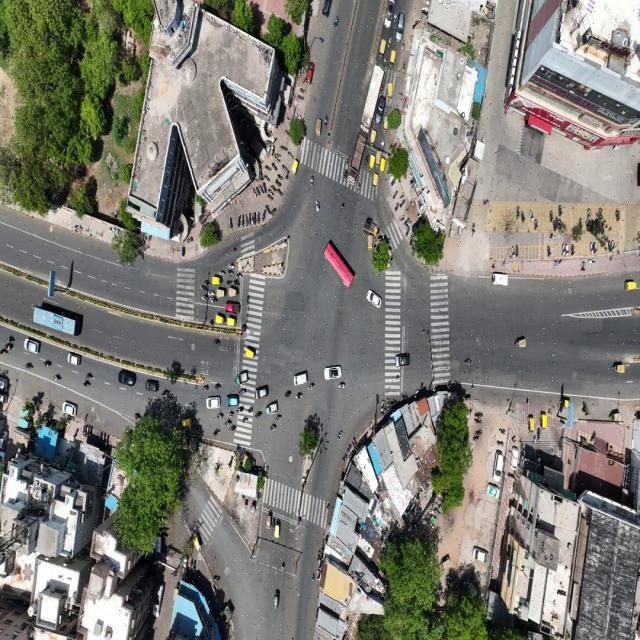3W: (185, 532, 207, 555), (622, 276, 639, 295), (612, 359, 626, 378), (271, 583, 280, 612), (233, 370, 250, 384), (291, 156, 300, 181), (241, 347, 257, 361), (362, 215, 373, 235), (516, 334, 528, 352), (264, 507, 272, 533), (314, 114, 322, 140), (378, 38, 386, 62), (214, 311, 227, 325), (540, 412, 549, 432), (382, 115, 390, 137), (387, 81, 395, 102), (379, 158, 388, 176), (389, 48, 396, 71), (528, 415, 536, 435), (265, 402, 278, 414), (372, 172, 381, 189), (369, 152, 376, 173), (226, 315, 238, 327), (368, 231, 373, 258), (275, 518, 281, 540), (212, 275, 223, 287), (375, 150, 381, 172), (227, 288, 240, 298), (370, 130, 377, 148), (216, 288, 228, 298)
Bus: (30, 302, 89, 339), (322, 240, 355, 294)
Cars: (115, 359, 139, 391), (490, 269, 512, 290), (492, 451, 506, 483), (363, 288, 382, 310), (374, 94, 387, 125), (302, 59, 318, 84), (391, 350, 411, 370), (382, 0, 395, 30), (21, 338, 41, 355), (322, 365, 344, 380), (144, 375, 160, 394), (62, 400, 78, 417), (254, 383, 270, 400), (290, 371, 310, 384), (397, 12, 405, 44), (224, 299, 241, 314), (66, 352, 82, 367), (206, 397, 222, 410), (224, 395, 239, 407)
M2W: (607, 236, 617, 255), (336, 425, 345, 443), (482, 194, 491, 210), (314, 199, 322, 216), (614, 208, 622, 225), (24, 359, 34, 372), (282, 388, 292, 401), (464, 356, 474, 369), (200, 381, 209, 395), (398, 188, 407, 202), (334, 13, 342, 28), (473, 407, 485, 417), (597, 205, 605, 220), (309, 172, 316, 189), (364, 151, 371, 167), (281, 128, 292, 138), (213, 379, 222, 391), (215, 409, 224, 421), (268, 422, 277, 434), (308, 381, 317, 393), (498, 424, 507, 436), (577, 212, 583, 230), (287, 149, 295, 162), (403, 227, 411, 240), (340, 167, 348, 180), (310, 569, 316, 586), (228, 216, 234, 233), (510, 242, 516, 259), (546, 242, 552, 259), (548, 208, 554, 225), (81, 380, 91, 390), (6, 333, 16, 343), (336, 380, 346, 390), (496, 438, 506, 448), (295, 390, 303, 402), (323, 113, 329, 129), (470, 222, 476, 238), (520, 209, 526, 225), (384, 104, 392, 116), (516, 202, 521, 221), (586, 207, 593, 220), (43, 358, 52, 368), (53, 374, 63, 383), (6, 343, 16, 352), (239, 386, 248, 396), (211, 428, 220, 438), (255, 409, 264, 419), (279, 142, 288, 152), (295, 94, 304, 104), (473, 417, 483, 426), (565, 240, 570, 258), (338, 202, 346, 213), (529, 207, 534, 224), (0, 345, 7, 357), (251, 186, 257, 200), (261, 208, 267, 222), (392, 187, 399, 199), (400, 41, 407, 53), (381, 56, 388, 68), (211, 338, 220, 347), (227, 408, 236, 417), (199, 283, 208, 292), (271, 514, 275, 534), (86, 370, 94, 380), (230, 424, 238, 434), (253, 211, 258, 227), (273, 156, 281, 166), (298, 84, 306, 94), (536, 425, 541, 441), (571, 242, 576, 258), (594, 240, 599, 256), (262, 182, 268, 195), (556, 204, 562, 217), (356, 181, 362, 194), (271, 183, 278, 194), (381, 138, 386, 153), (247, 406, 255, 415), (237, 406, 246, 414), (227, 269, 236, 277), (264, 164, 273, 172), (515, 240, 519, 258), (345, 151, 351, 163), (380, 81, 386, 93), (242, 415, 249, 425), (217, 269, 227, 276), (277, 172, 284, 182), (281, 163, 288, 173), (399, 214, 406, 224), (224, 419, 232, 427), (200, 294, 208, 302), (233, 279, 241, 287), (228, 261, 236, 269), (257, 181, 261, 197), (204, 278, 211, 287), (273, 151, 282, 158), (209, 316, 214, 328), (237, 214, 241, 229), (535, 213, 538, 232), (275, 414, 282, 422), (231, 246, 238, 254), (210, 297, 217, 305), (225, 278, 232, 286), (473, 436, 480, 444), (589, 242, 593, 256), (210, 288, 216, 297), (245, 214, 249, 227), (402, 60, 406, 73), (476, 428, 483, 435), (236, 272, 244, 278), (395, 201, 399, 213), (388, 37, 392, 49), (562, 242, 565, 257), (394, 13, 397, 26)
Truck: (358, 57, 389, 133), (344, 129, 367, 188)
